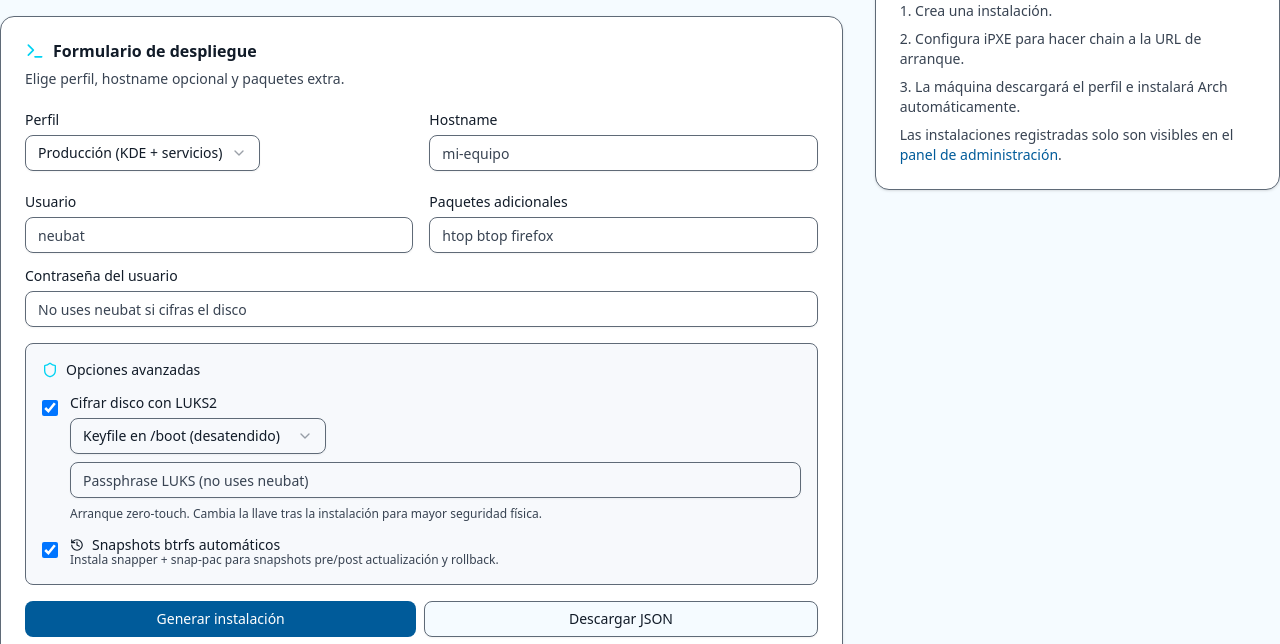
it: HomePage › crea una instalación y muestra resultados
Click the button "Generar instalación".
click(221, 619)  # box [25,601,416,637]
(page scrolled)
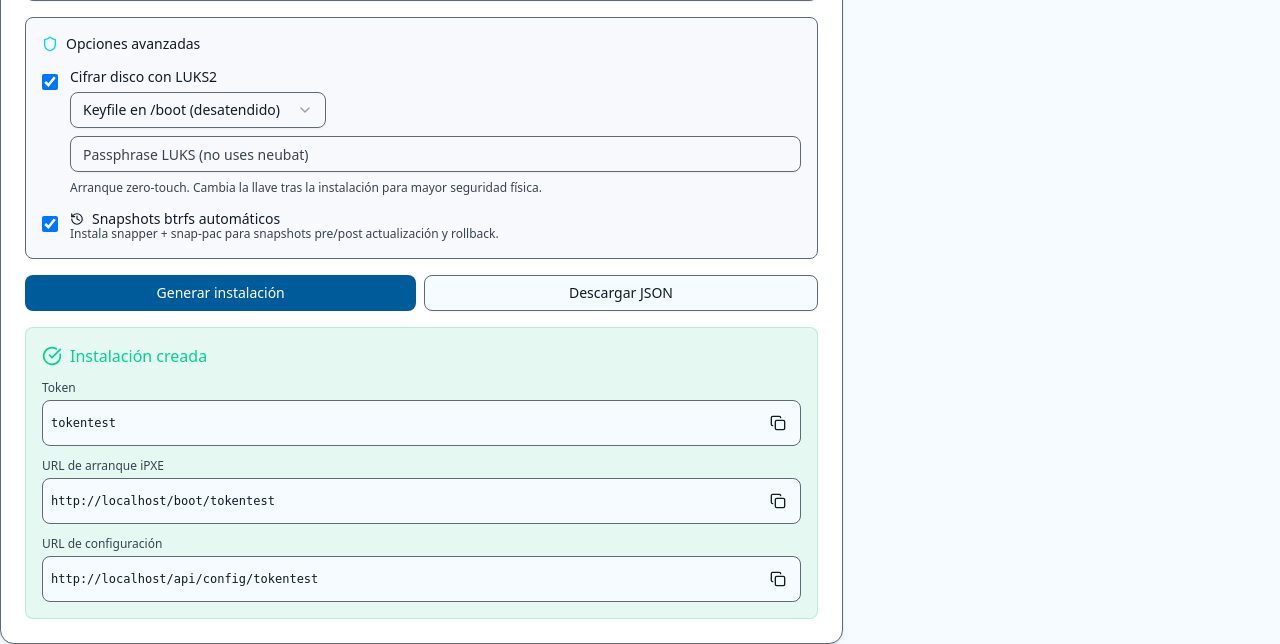
Check: the text "URL de arranque iPXE" is shown, box [42,457,164,474]
Check: the text "http://localhost/boot/tokentest" is shown, box [51,494,275,508]
